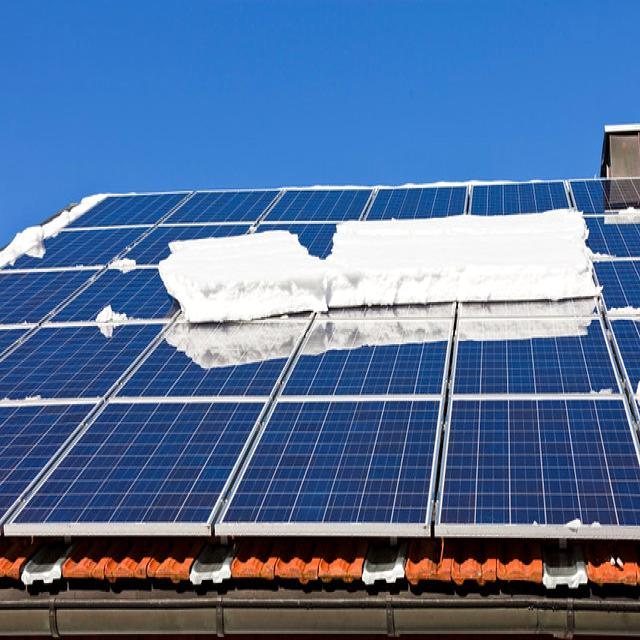panel: (152, 238, 328, 374), (193, 203, 312, 264), (516, 251, 610, 320), (174, 289, 291, 343), (406, 268, 504, 332), (318, 203, 409, 266), (0, 214, 59, 292), (306, 287, 394, 324), (504, 201, 590, 234), (551, 494, 625, 532), (424, 208, 493, 246), (584, 373, 640, 418), (56, 186, 114, 228), (88, 292, 124, 346), (607, 287, 640, 344), (606, 193, 640, 239), (99, 248, 149, 276)
